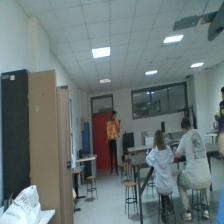fire-poster: (107, 121, 120, 139)
